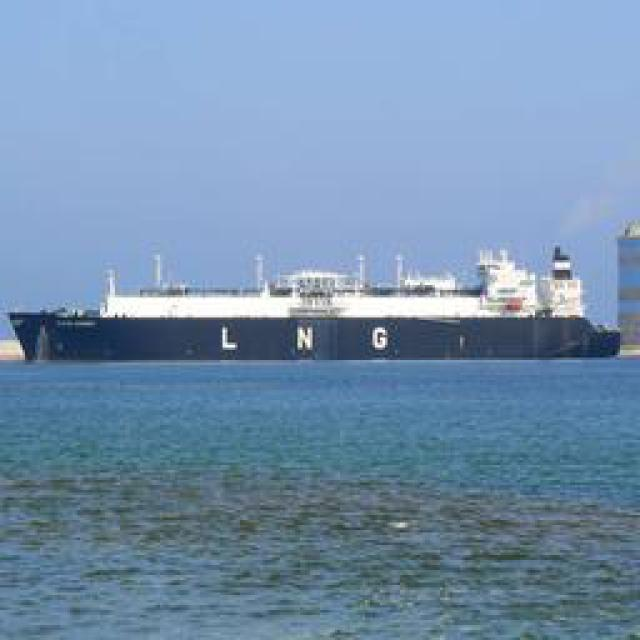Ship: (8, 245, 630, 367)
